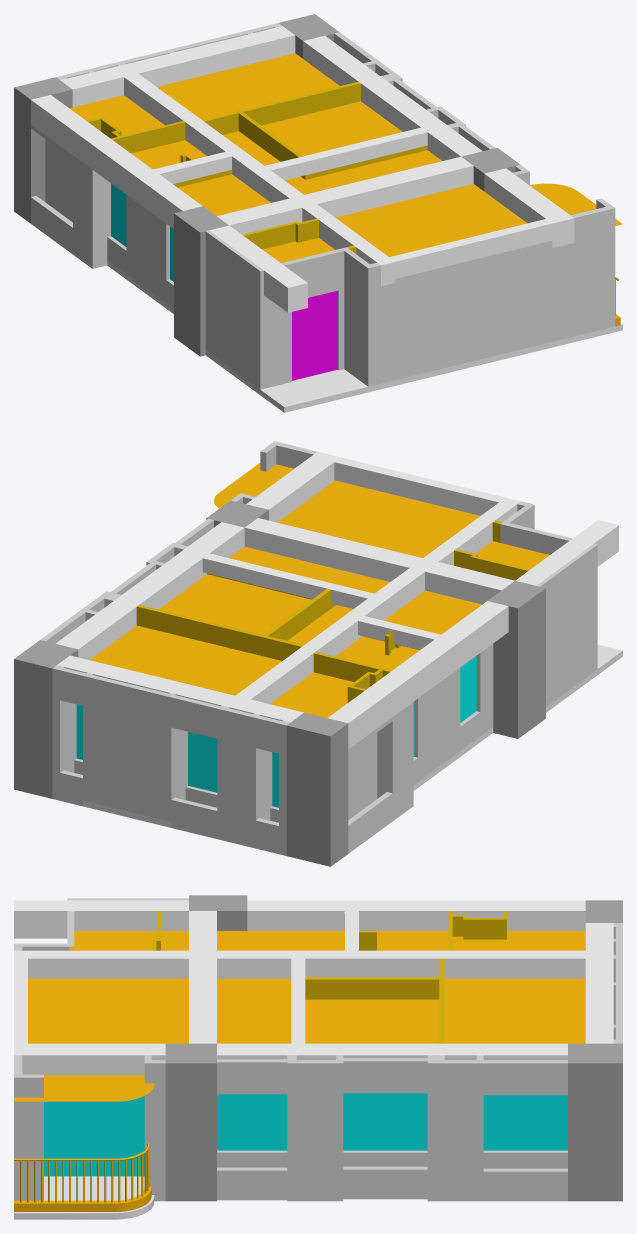
The picture shows the model from 3 angles, top to bottom: view 1: azimuth 30°, elevation 25°; view 2: azimuth 150°, elevation 25°; view 3: azimuth 270°, elevation 25°; orthographic projection. The views are drawn at different scales.
Size of the model in its own units: 9.43 by 3.25 by 13.01.
